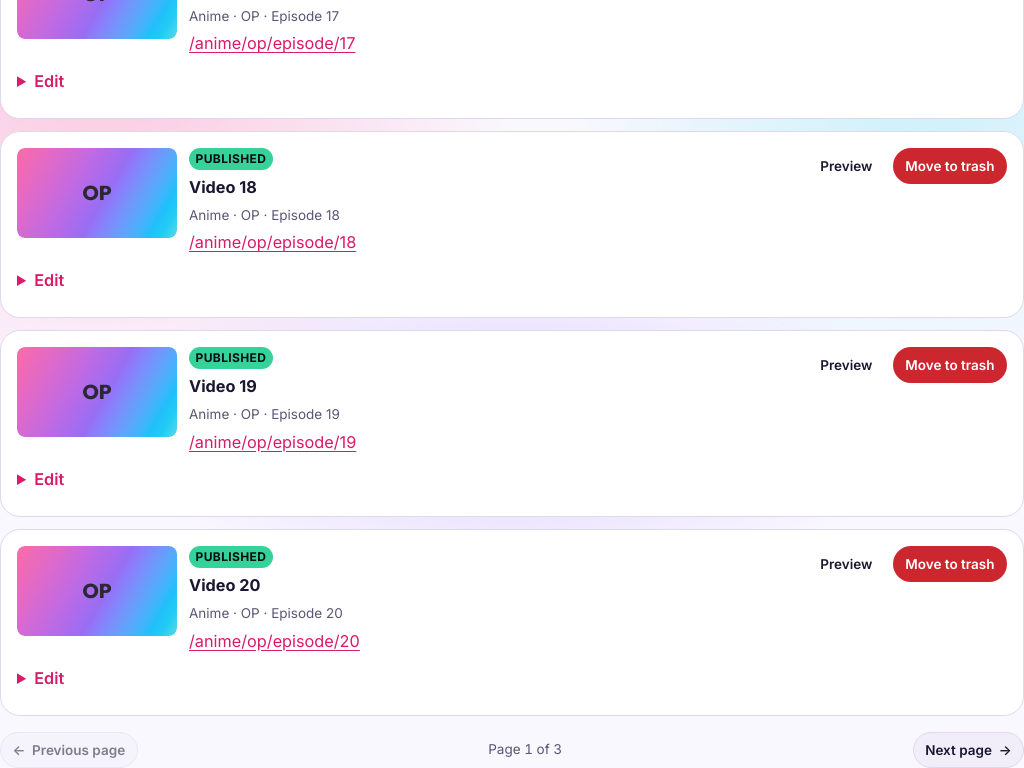
Test case: admin lists — the list changing under the pager › clamps to the new last page when the list shrank, and shows the empty state at zero
(page scrolled)
Expected: the text "Page 1 of 3" is shown, [488, 740, 562, 760]
Click the button "Next page →". click: {"x": 968, "y": 750}
box: [913, 732, 1023, 767]
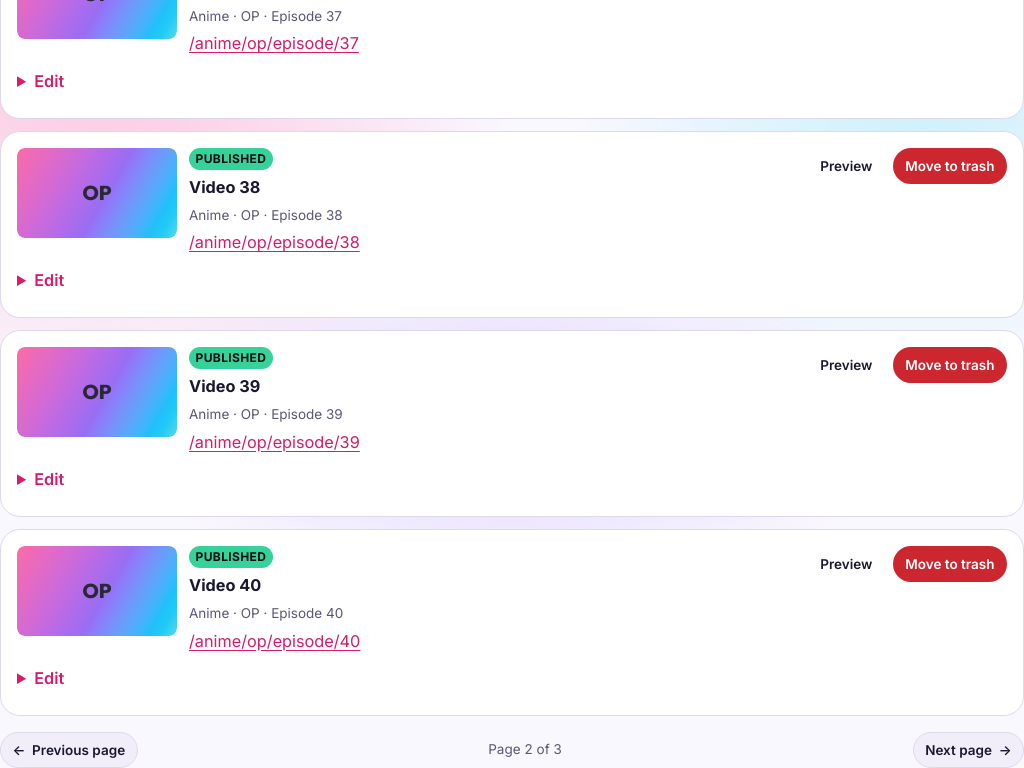
Expected: the text "Page 2 of 3" is shown, [488, 740, 562, 760]
Click the button "Next page →". click: {"x": 968, "y": 750}
box: [913, 732, 1023, 767]
(page scrolled)
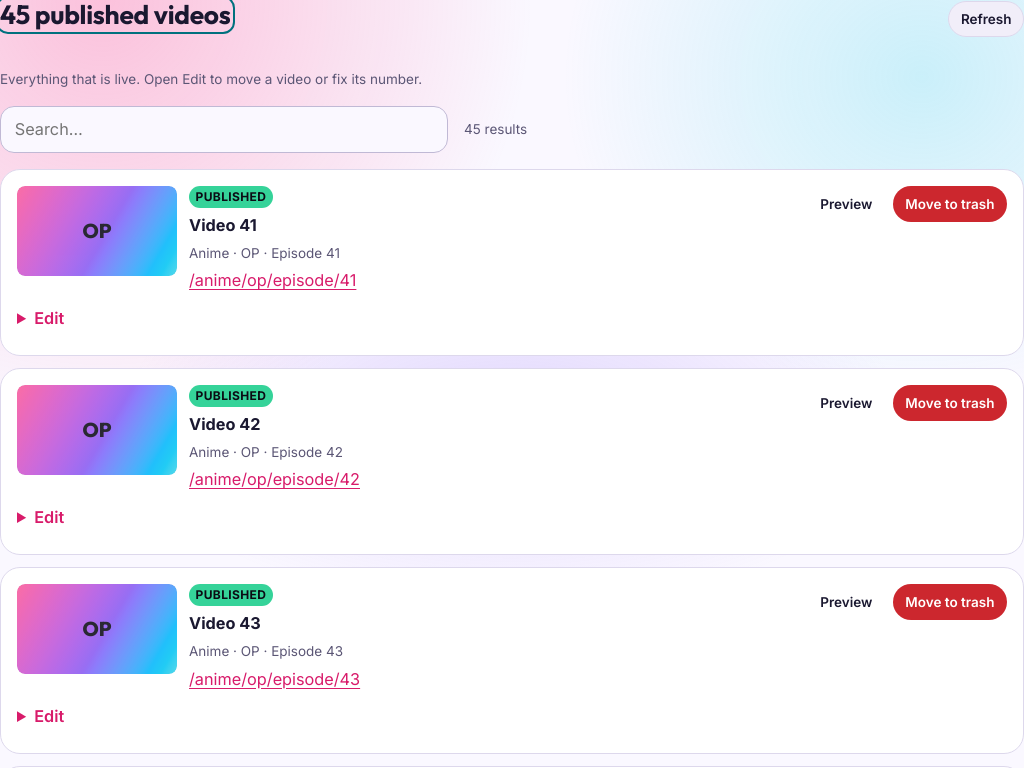
Expected: the text "Video 41" is shown, [189, 215, 257, 235]
Click the button "Refresh". click: {"x": 986, "y": 19}
box: [948, 1, 1023, 37]
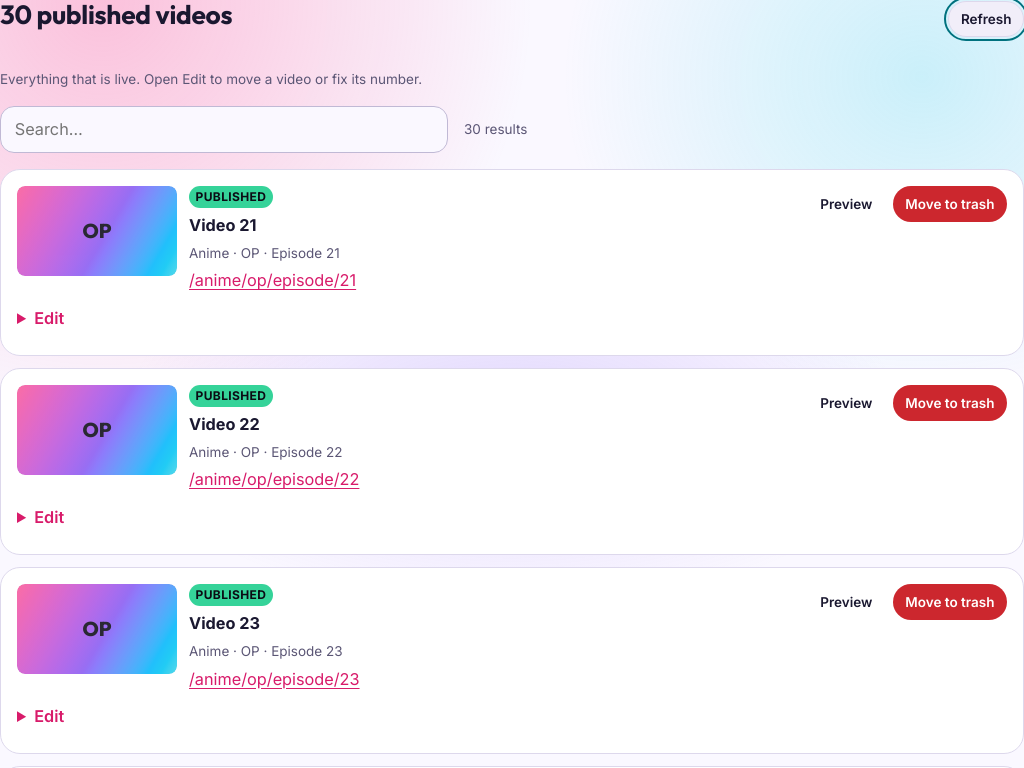
Click the button "Refresh". click: {"x": 986, "y": 19}
box: [948, 1, 1023, 37]
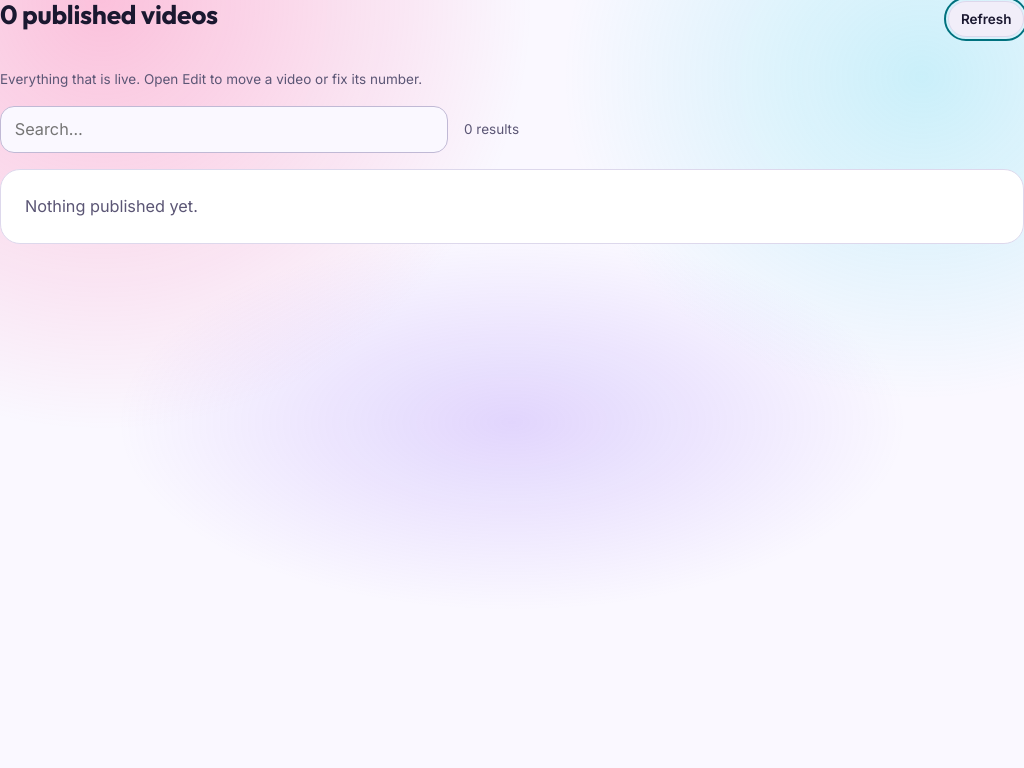
Expected: the text "Nothing published yet." is shown, [0, 169, 1023, 244]
